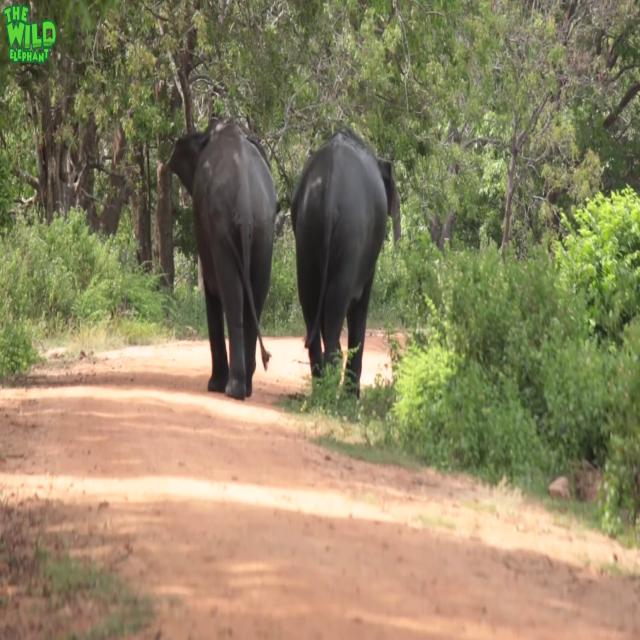Elephant: (165, 116, 277, 400), (289, 125, 402, 400)
